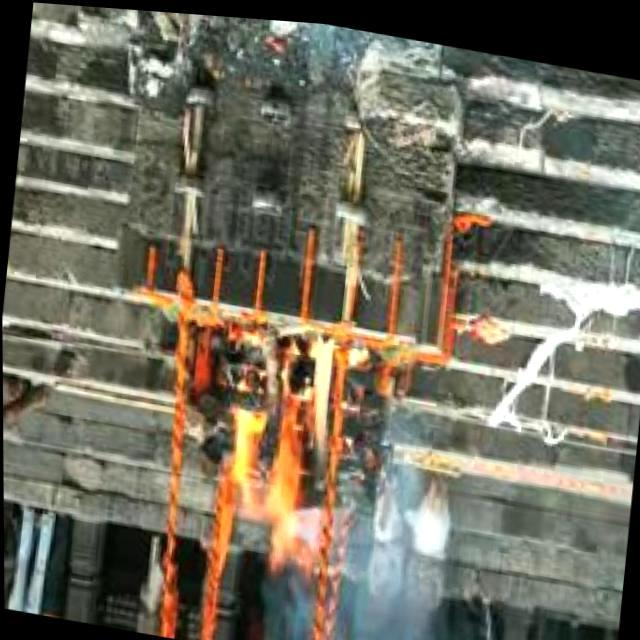fire: (216, 314, 344, 562)
